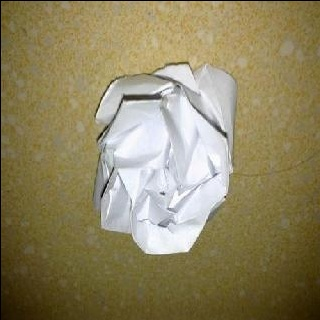8/可回收垃圾/纸: (94, 62, 236, 255)
